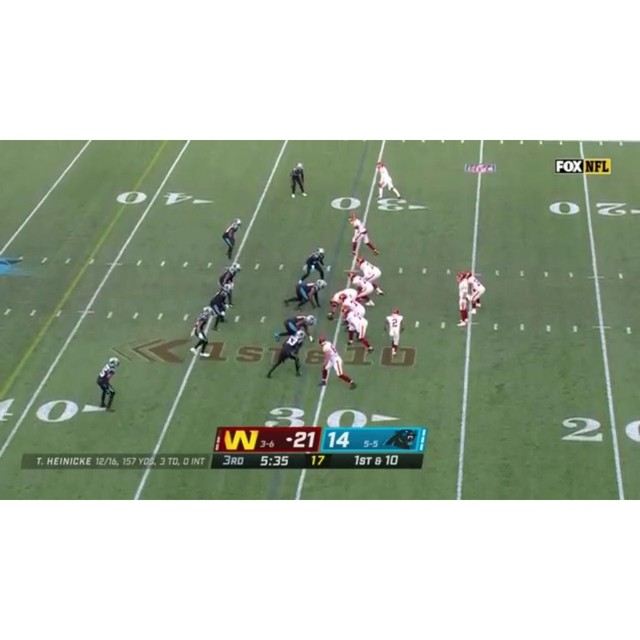american-football-player: (266, 328, 307, 379), (318, 335, 356, 390), (341, 307, 373, 354), (189, 305, 217, 357), (348, 212, 379, 258), (283, 279, 327, 311), (95, 358, 119, 412), (275, 314, 317, 344), (209, 282, 234, 331), (355, 255, 384, 296), (329, 288, 363, 321), (347, 271, 376, 307), (218, 264, 242, 307), (385, 307, 404, 358), (464, 271, 486, 315), (455, 271, 472, 327), (300, 248, 327, 283), (376, 160, 400, 199), (222, 218, 242, 260)
